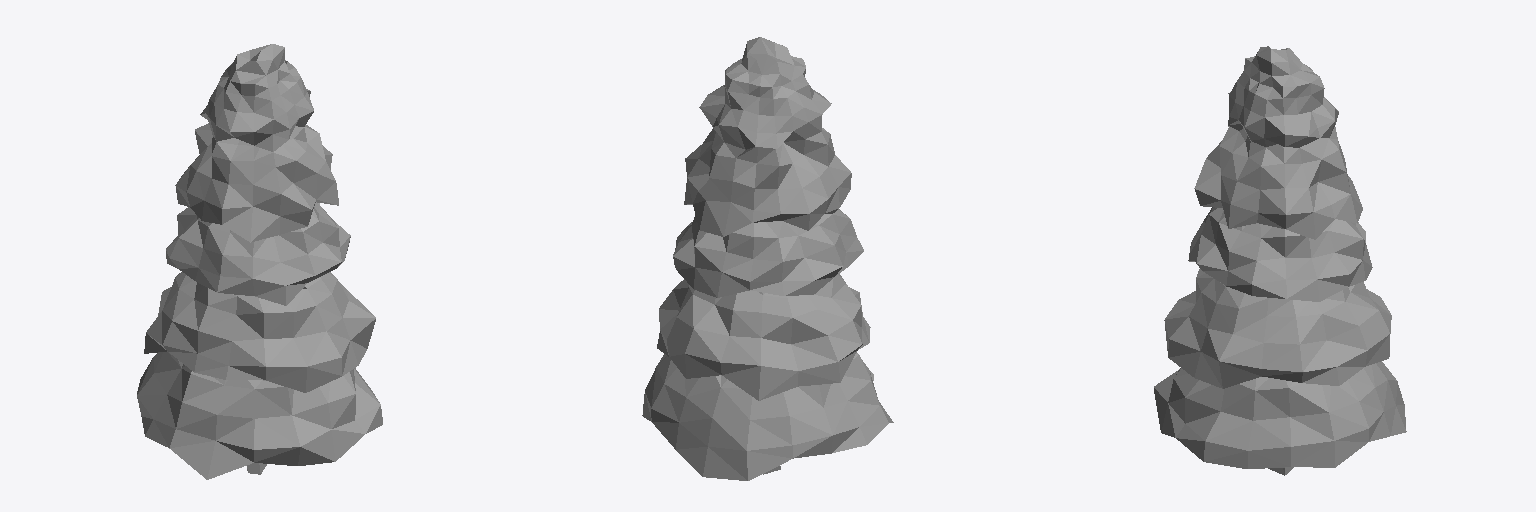
The model's file is _1_tree_Cone.002.obj.
3 views of the same model, side by side, from view 1: azimuth 30°, elevation 25°; view 2: azimuth 150°, elevation 25°; view 3: azimuth 270°, elevation 25° (orthographic).
Visible parts, largest first — view 1: _1_tree_Cone.002; view 2: _1_tree_Cone.002; view 3: _1_tree_Cone.002.
Boxes of the visible parts, x1,y1,x2,y2 form: _1_tree_Cone.002: [137, 44, 382, 479]; _1_tree_Cone.002: [642, 37, 893, 480]; _1_tree_Cone.002: [1154, 46, 1406, 475].
Size of the model in its own units: 0.7483 by 1.45 by 0.7799.